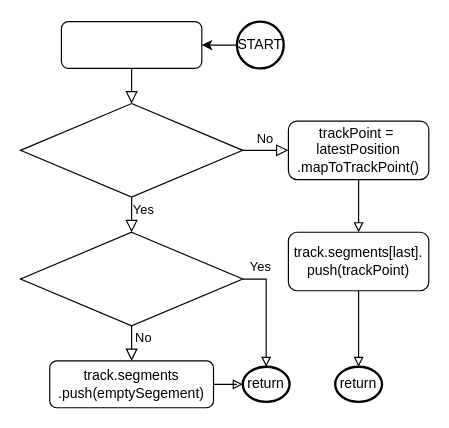
Some shapes in this 449 by 428 pixel diagram are drawn without their labels. Each missing label, with the centre of its shape:
"latestPosition" belongs at [131,44].
"latestPosition === null" belongs at [131,149].
"track.segments[last].isEmpty() === true" belongs at [131,278].
